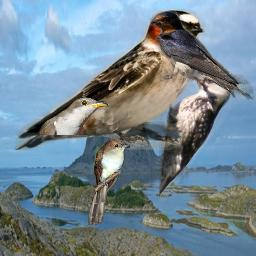Cuckoo: (88, 138, 130, 225), (38, 97, 109, 135)
Swallow: (14, 7, 206, 150), (150, 11, 255, 102)
Woodpecker: (159, 67, 231, 202)
